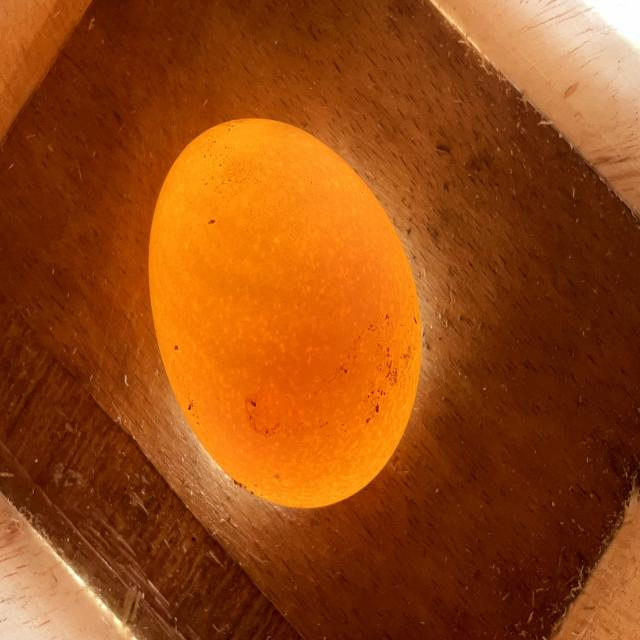infertile: (149, 118, 421, 507)
